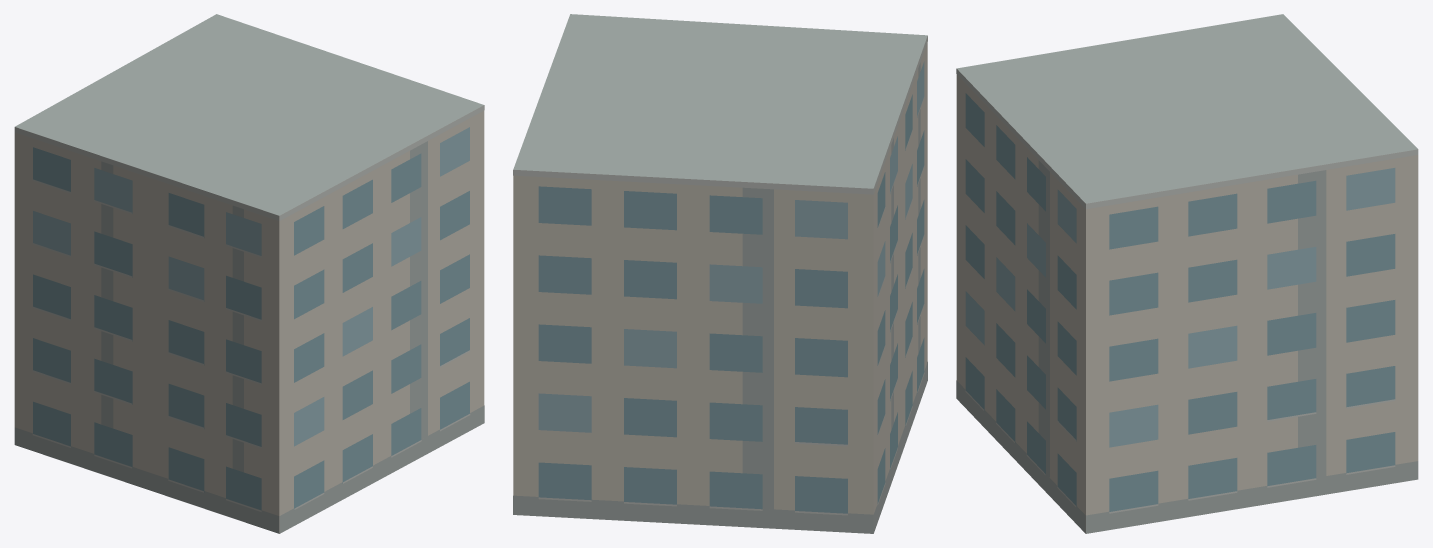
The model's file is survey-upis-32856368.glb.
3 renders of one model, left to right at view 1: azimuth 30°, elevation 25°; view 2: azimuth 150°, elevation 25°; view 3: azimuth 270°, elevation 25°, orthographic. The views are drawn at different scales.
Visible parts, largest first — view 1: survey-upis-32856368.tmp; view 2: survey-upis-32856368.tmp; view 3: survey-upis-32856368.tmp.
Boxes of the visible parts, box(x1,y1,x2,y2) form: survey-upis-32856368.tmp: box(14, 14, 484, 533); survey-upis-32856368.tmp: box(513, 14, 927, 533); survey-upis-32856368.tmp: box(956, 14, 1418, 533).
Size of the model in its own units: 17.76 by 14.4 by 18.27.
